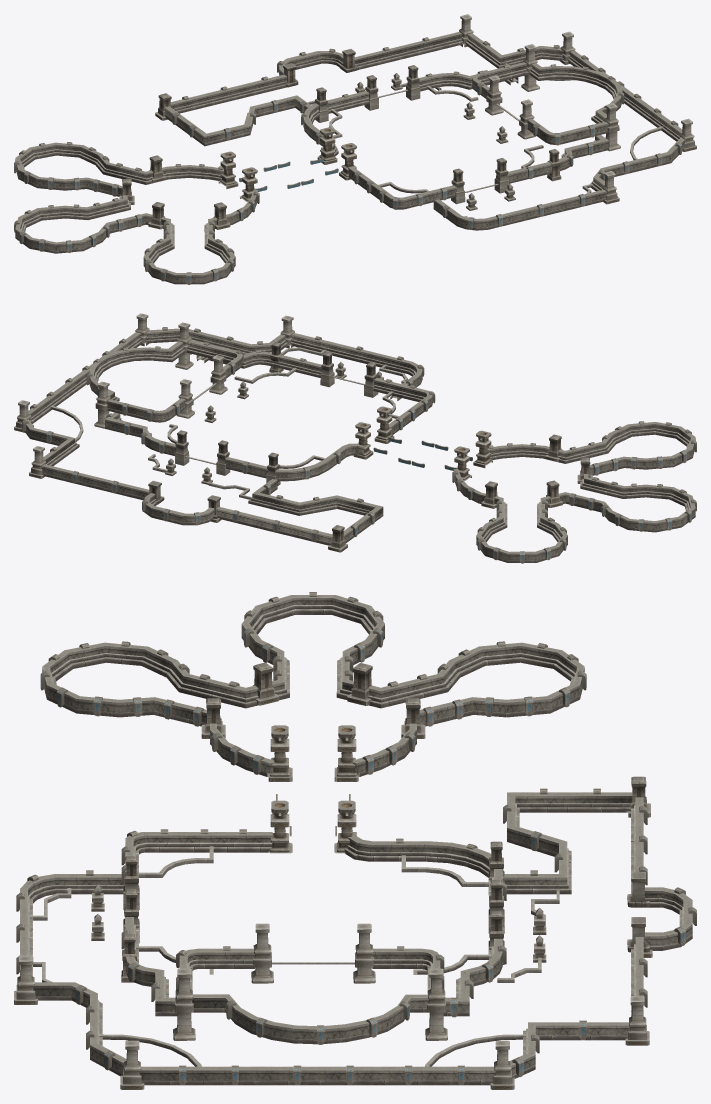
Rendered from weilan_zhucheng.FBX.
3 renders of one model, top to bottom at view 1: azimuth 30°, elevation 25°; view 2: azimuth 150°, elevation 25°; view 3: azimuth 270°, elevation 25°, orthographic. The views are drawn at different scales.
Parts seen in each view (by area): view 1: Object06; view 2: Object06; view 3: Object06.
Part boxes in pixels (<box>): Object06: <box>14,14,696,284</box>; Object06: <box>14,313,696,563</box>; Object06: <box>14,592,696,1089</box>.
Size of the model in its own units: 8244 by 571 by 5094.
